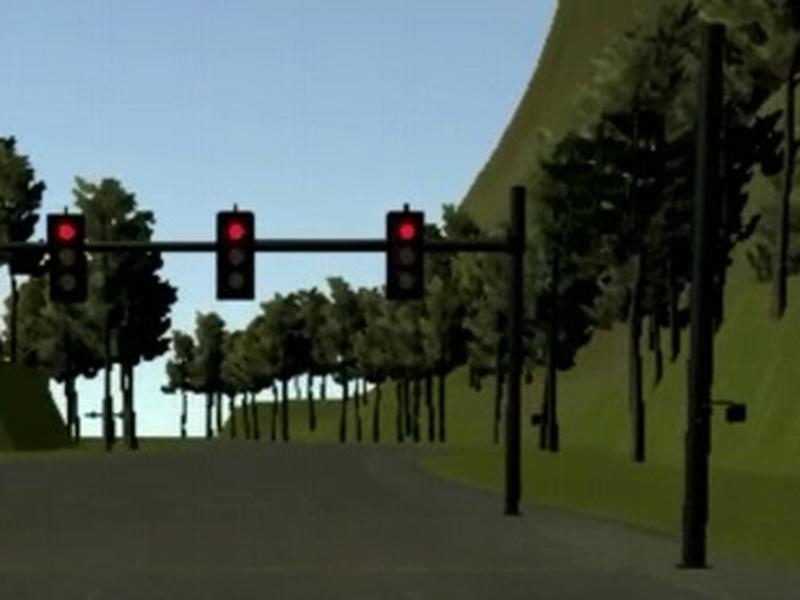Red: (45, 212, 88, 303), (216, 210, 256, 300), (385, 210, 425, 300)
